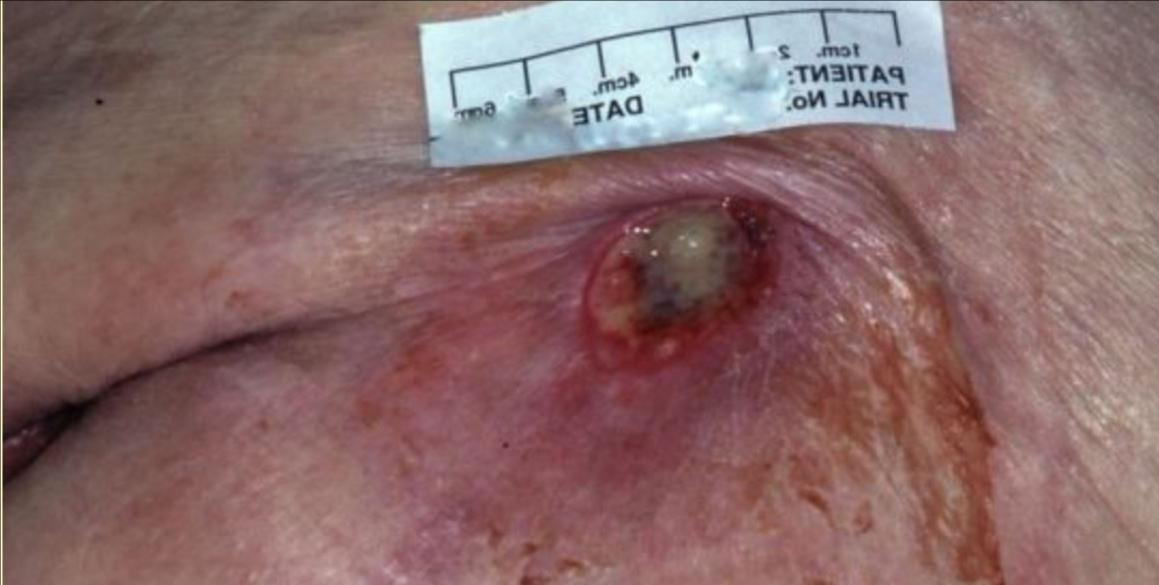Stage4: (413, 152, 818, 452)
